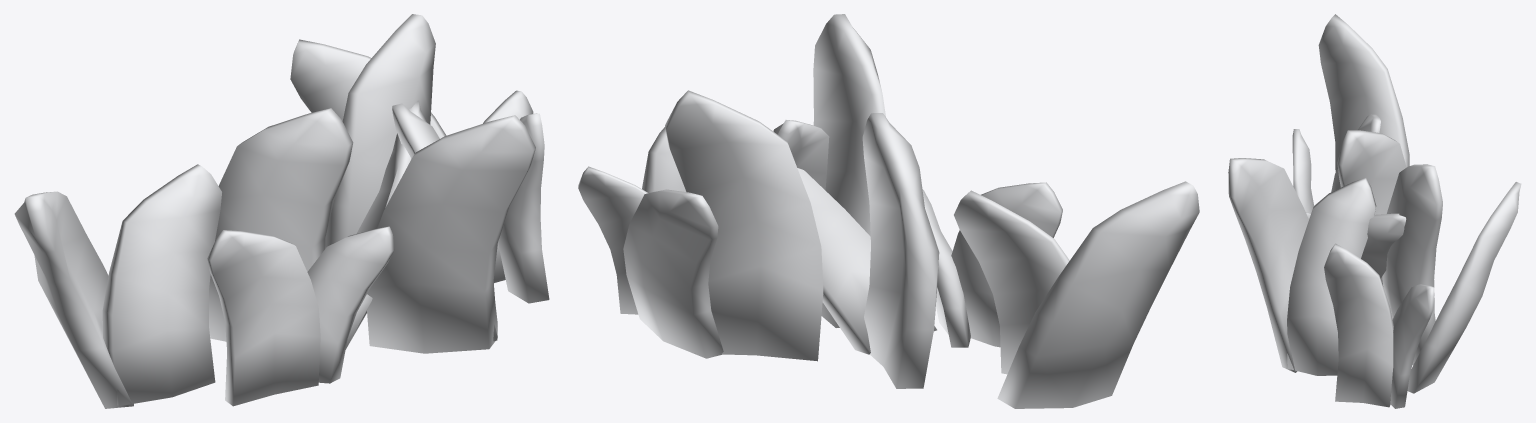
Rendered from grass-18_col.fbx.
3 views of the same model, side by side, from view 1: azimuth 30°, elevation 25°; view 2: azimuth 150°, elevation 25°; view 3: azimuth 270°, elevation 25° (orthographic). The views are drawn at different scales.
Visible parts, largest first — view 1: grass-18.col; view 2: grass-18.col; view 3: grass-18.col.
Boxes of the visible parts, box(x1,y1,x2,y2) form: grass-18.col: box(14, 14, 549, 408); grass-18.col: box(578, 14, 1199, 408); grass-18.col: box(1228, 14, 1521, 408).
Bounding box in the file's own units: 0.2566 × 0.1128 × 0.1438.
1 material, 1 textured.
